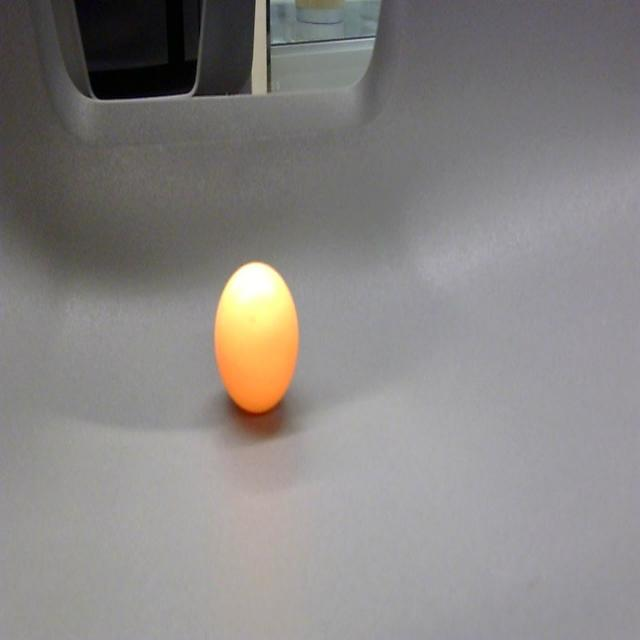ball: (213, 259, 301, 416)
